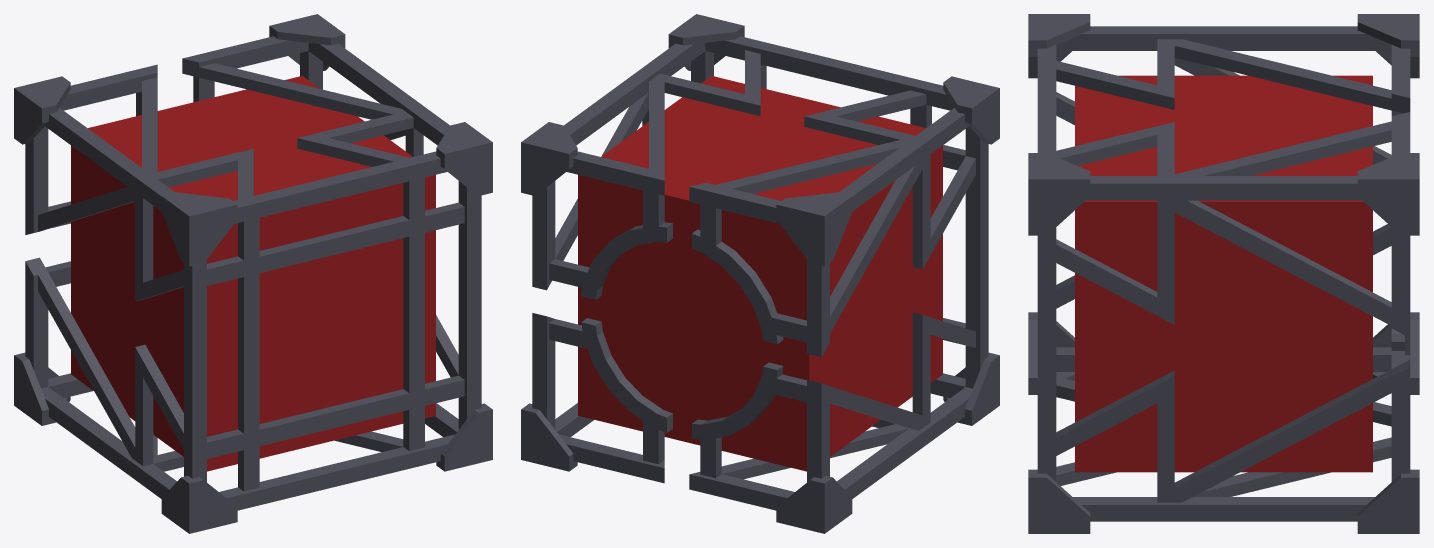
File: red-source.glb
3 views of the same model, side by side, from view 1: azimuth 30°, elevation 25°; view 2: azimuth 150°, elevation 25°; view 3: azimuth 270°, elevation 25° (orthographic). The views are drawn at different scales.
Visible parts, largest first — view 1: laser box; view 2: laser box; view 3: laser box.
Part boxes in pixels (left/top/right/bottom): laser box: left=14, top=14, right=492, bottom=533; laser box: left=521, top=14, right=999, bottom=533; laser box: left=1028, top=14, right=1419, bottom=533.
Bounding box in the file's own units: 1 × 1 × 1.
